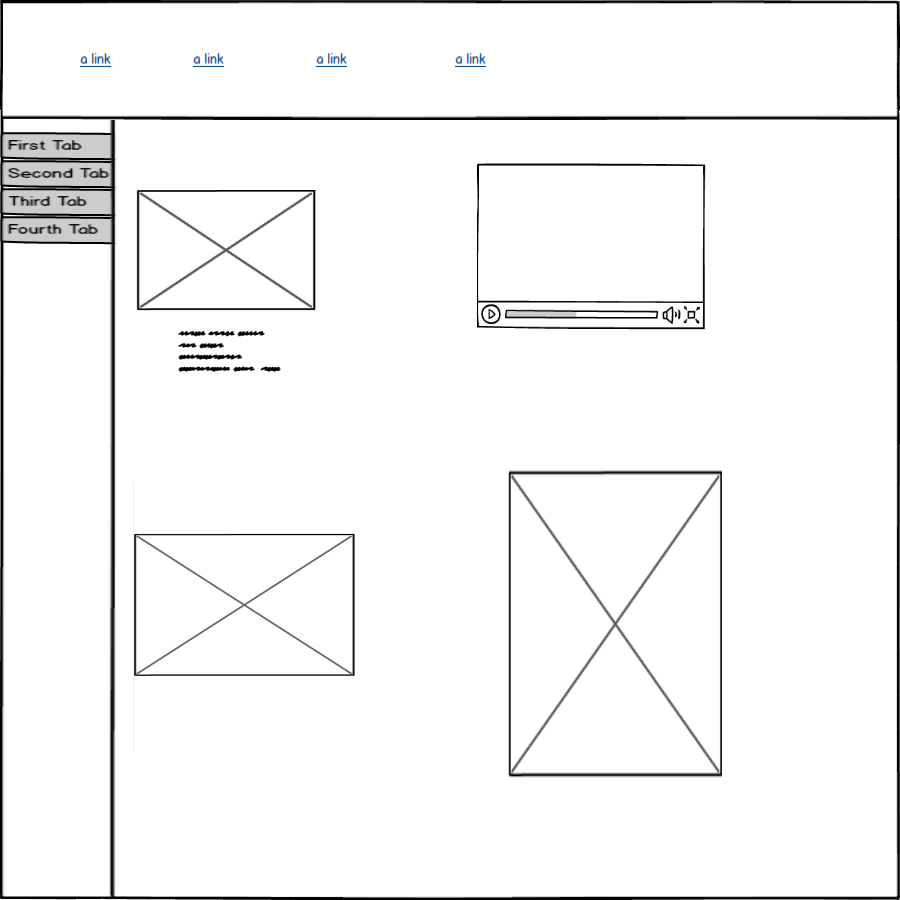image: (504, 466, 728, 782), (126, 526, 364, 684), (134, 180, 322, 319)
navlink: (309, 43, 364, 78), (442, 43, 496, 77), (183, 47, 237, 80), (74, 44, 120, 73)
p: (171, 328, 287, 378)
sidebar: (1, 125, 120, 252)
video: (472, 159, 711, 337)
